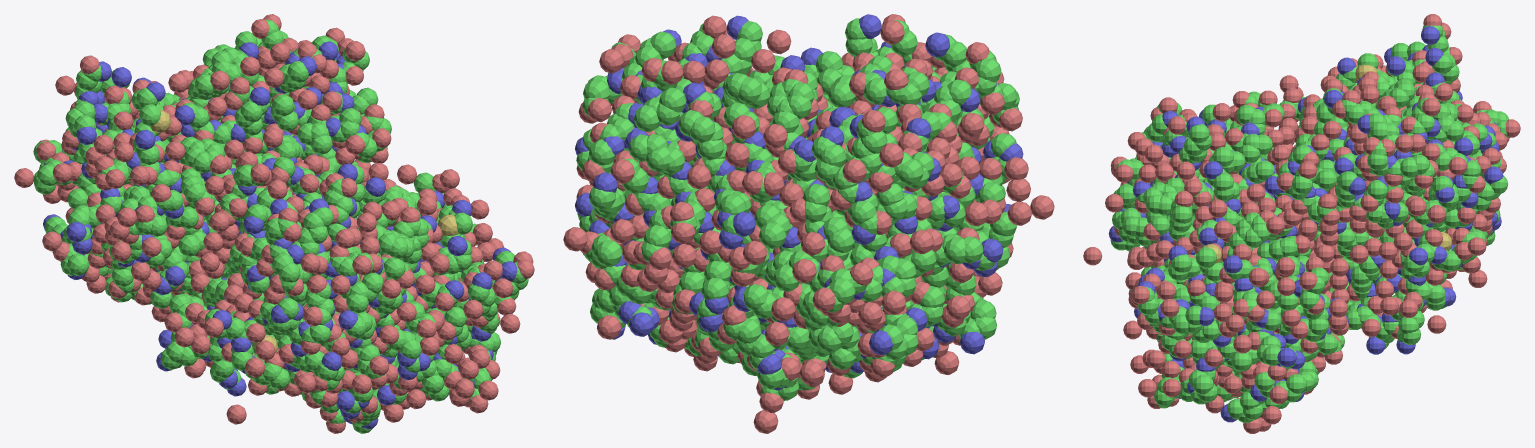
Rendered from 1gfl__spheres__default.glb.
3 renders of one model, left to right at view 1: azimuth 30°, elevation 25°; view 2: azimuth 150°, elevation 25°; view 3: azimuth 270°, elevation 25°, orthographic. The views are drawn at different scales.
Parts seen in each view (by area): view 1: Renderer Node; view 2: Renderer Node; view 3: Renderer Node.
Boxes of the visible parts, box(x1,y1,x2,y2) form: Renderer Node: box(14, 14, 534, 433); Renderer Node: box(563, 14, 1054, 433); Renderer Node: box(1083, 14, 1520, 433).
Bounding box in the file's own units: 64.21 × 56.48 × 69.87.
